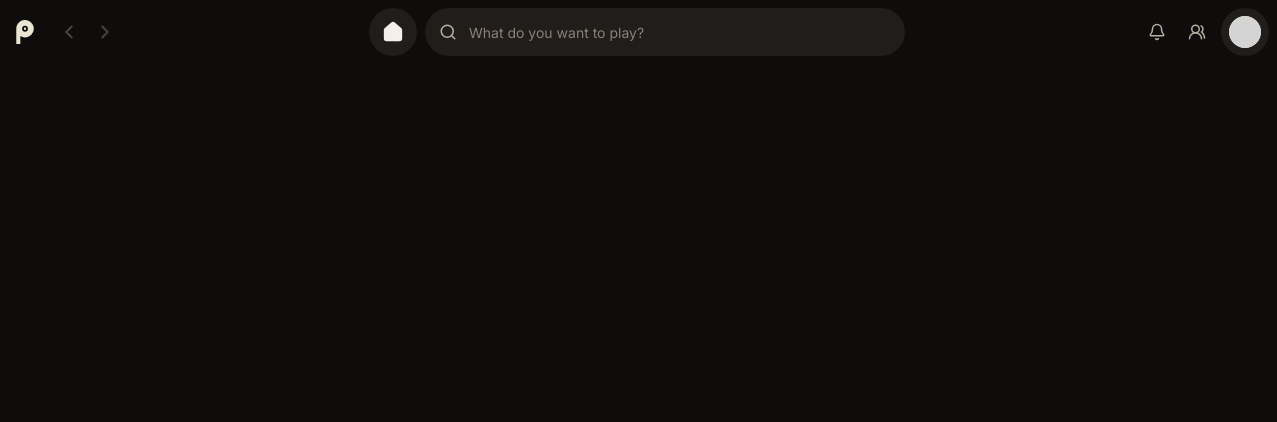
it: profile picture › the app menu shows it next to the username
Click the button named "App menu" at (1245, 32), box [1221,8,1269,56]
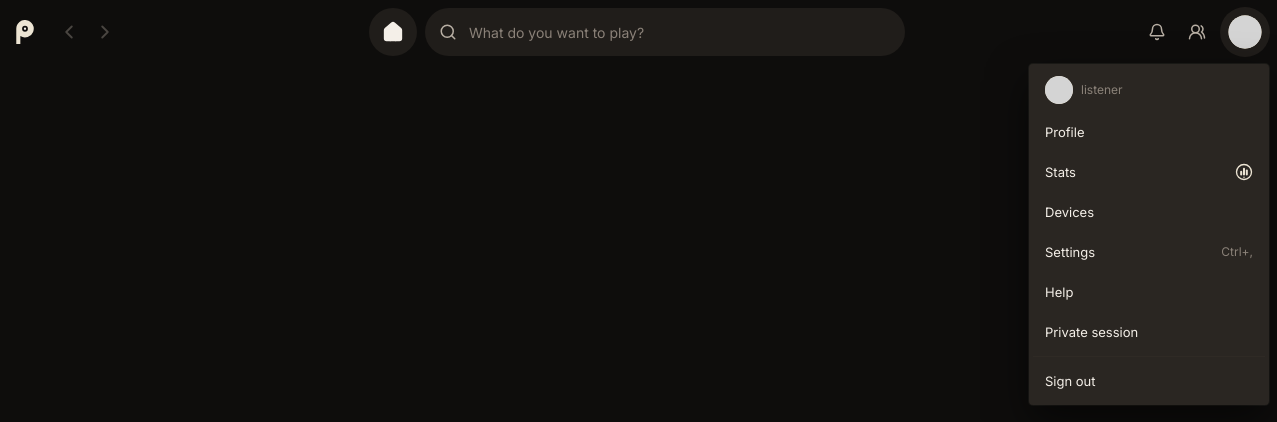
Expected: the element with class "appmenu__who" shows "listener", [1081,82,1123,97]
